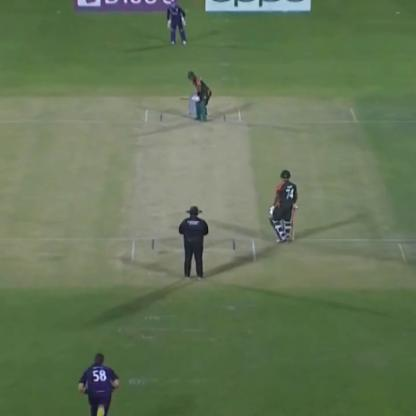pitch: (128, 109, 257, 272)
